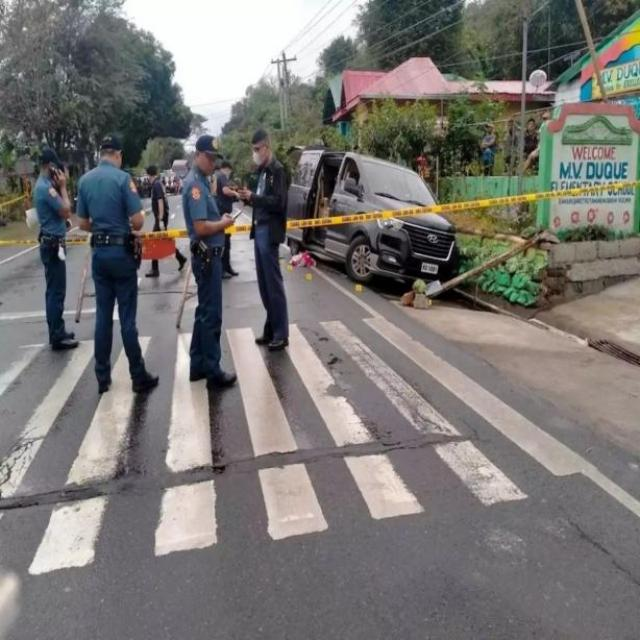pedestrian lane: (0, 314, 622, 578)
